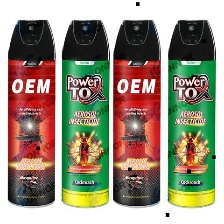aerosol_cans: (164, 15, 217, 209), (57, 17, 110, 209), (4, 15, 56, 209), (111, 16, 162, 210)
